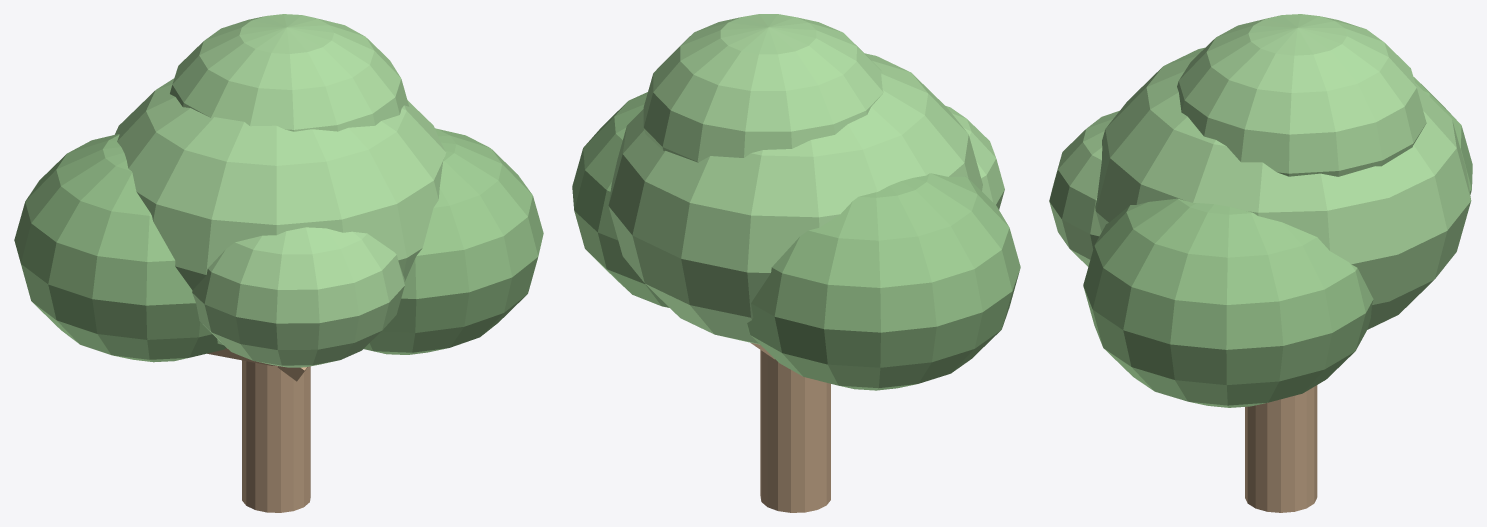
File: LargeGreenTree.glb
3 views of the same model, side by side, from view 1: azimuth 30°, elevation 25°; view 2: azimuth 150°, elevation 25°; view 3: azimuth 270°, elevation 25° (orthographic). The views are drawn at different scales.
Visible parts, largest first — view 1: LargeGreenTree_1, LargeGreenTree_0, LargeGreenTree_2; view 2: LargeGreenTree_1, LargeGreenTree_0, LargeGreenTree_2; view 3: LargeGreenTree_1, LargeGreenTree_0, LargeGreenTree_2.
Part boxes in pixels (box(x1,y1,x2,y2)): LargeGreenTree_1: box(114, 14, 446, 367); LargeGreenTree_0: box(14, 128, 543, 362); LargeGreenTree_2: box(207, 348, 310, 512); LargeGreenTree_1: box(608, 14, 1004, 344); LargeGreenTree_0: box(572, 92, 1020, 390); LargeGreenTree_2: box(750, 342, 830, 512); LargeGreenTree_1: box(1049, 14, 1471, 329); LargeGreenTree_0: box(1083, 77, 1472, 407); LargeGreenTree_2: box(1245, 385, 1317, 512).
Size of the model in its own units: 19.22 by 19.03 by 15.24.
